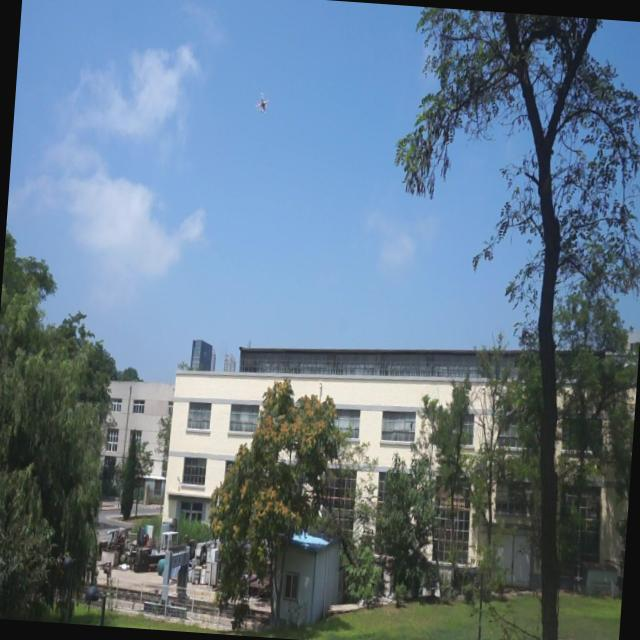drone: (252, 92, 270, 116)
